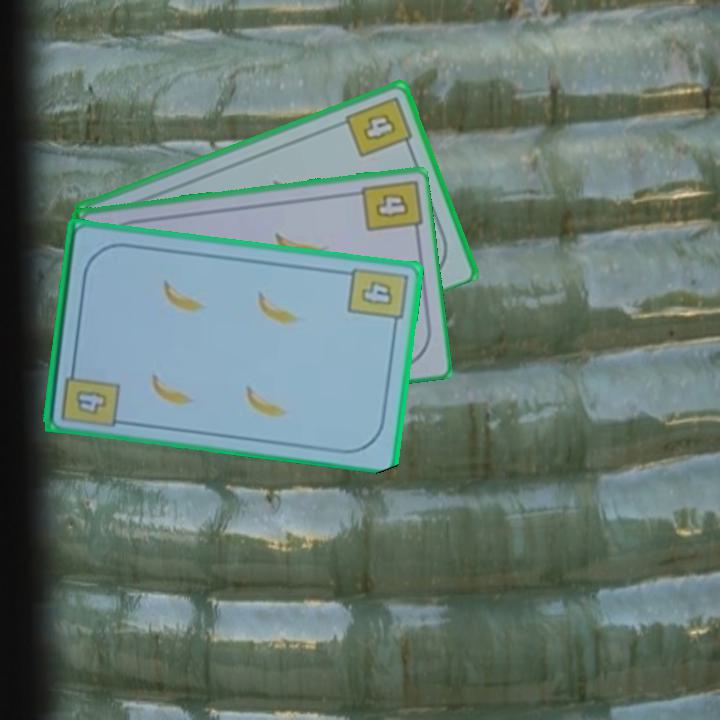4b: (341, 92, 416, 160), (344, 263, 410, 333), (372, 189, 413, 221), (72, 386, 111, 417)
